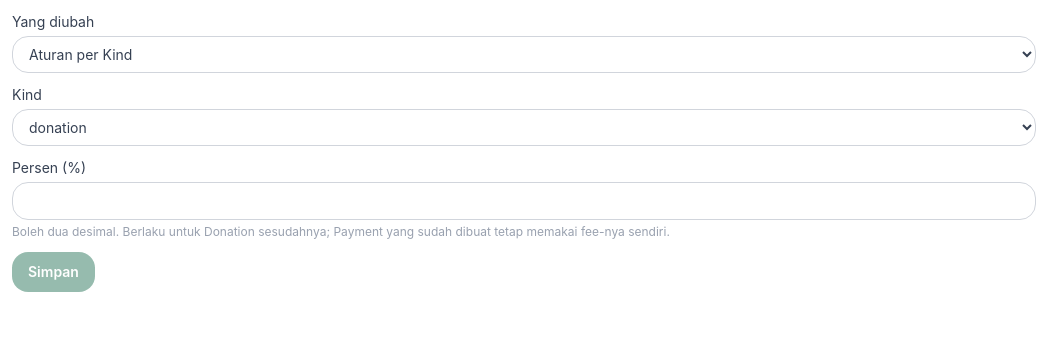
Test: AdminPlatformFeeForm › shows the server's own refusal and does not refresh
Type "150" into the field labelled "Persen" at (524, 201), box [12,182,1036,220]
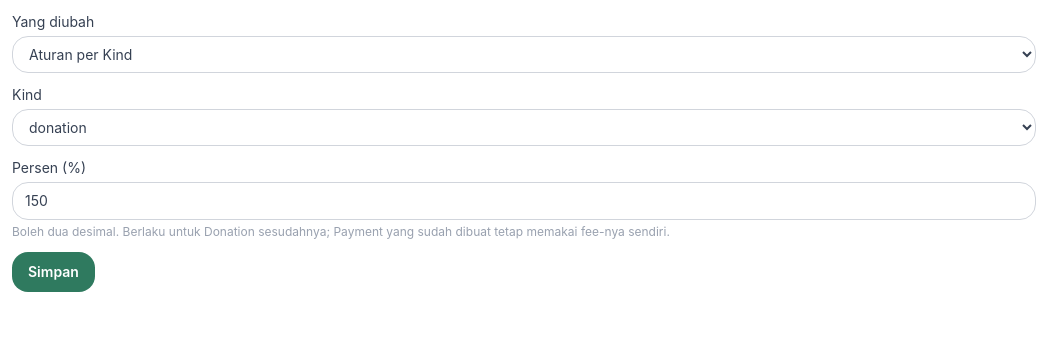
Click the button "Simpan" at (53, 272), box [12,252,95,292]
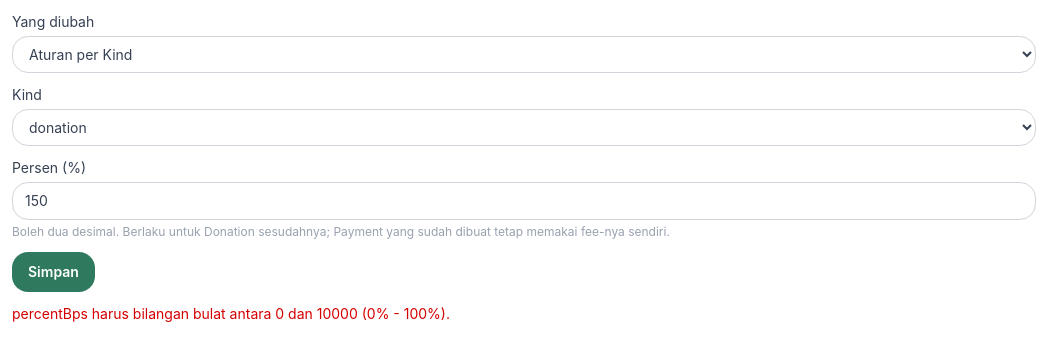
expect the message shows "percentBps harus bilangan bulat": met, box [12,305,450,322]
